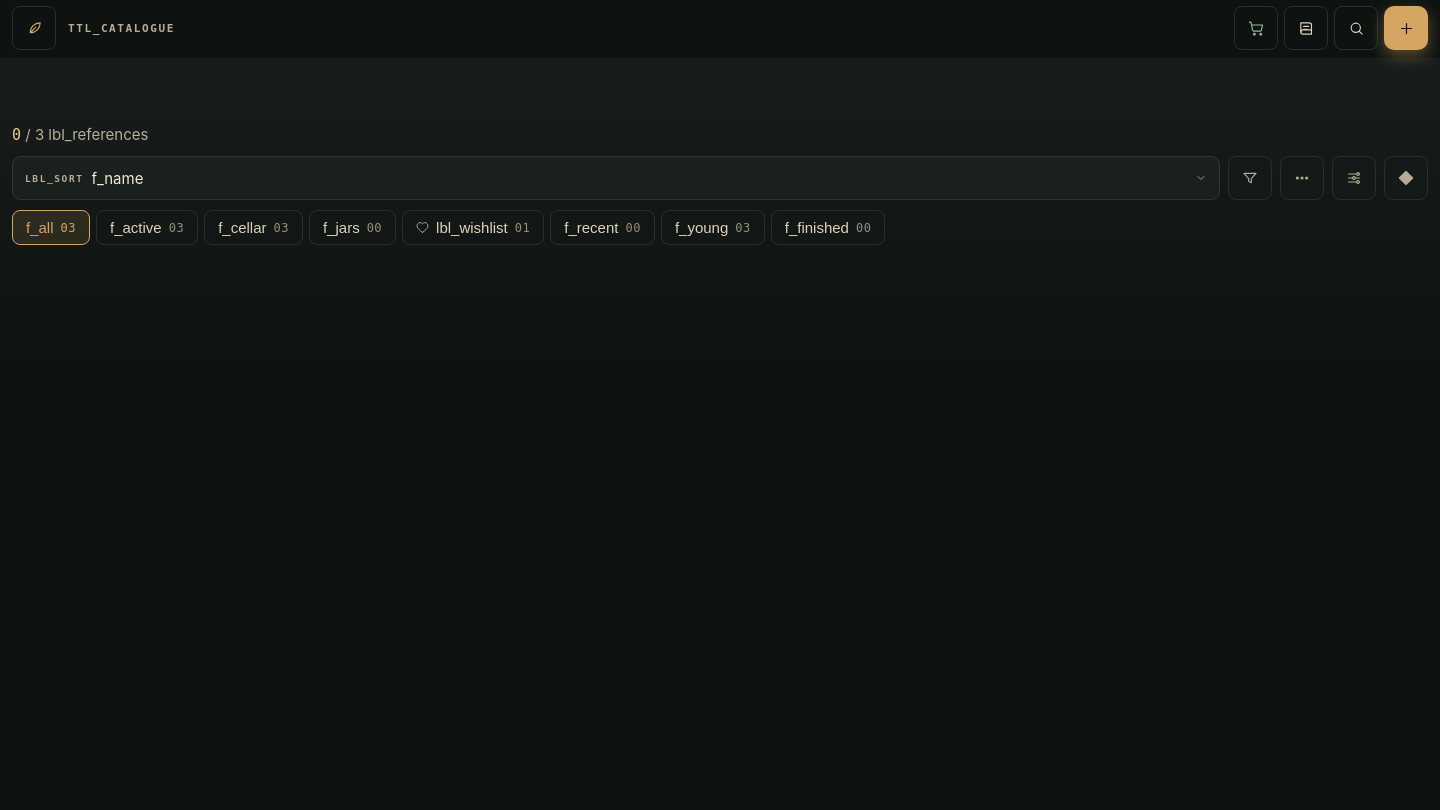
Scenario: CuratorInventoryListView — type / cut filter dropdowns › renders both dropdowns when the inventory has tobaccos
This screenshot has width=1440, height=810.
Click the button named "filters_more" at [1250, 178], box [1228,156,1272,200]
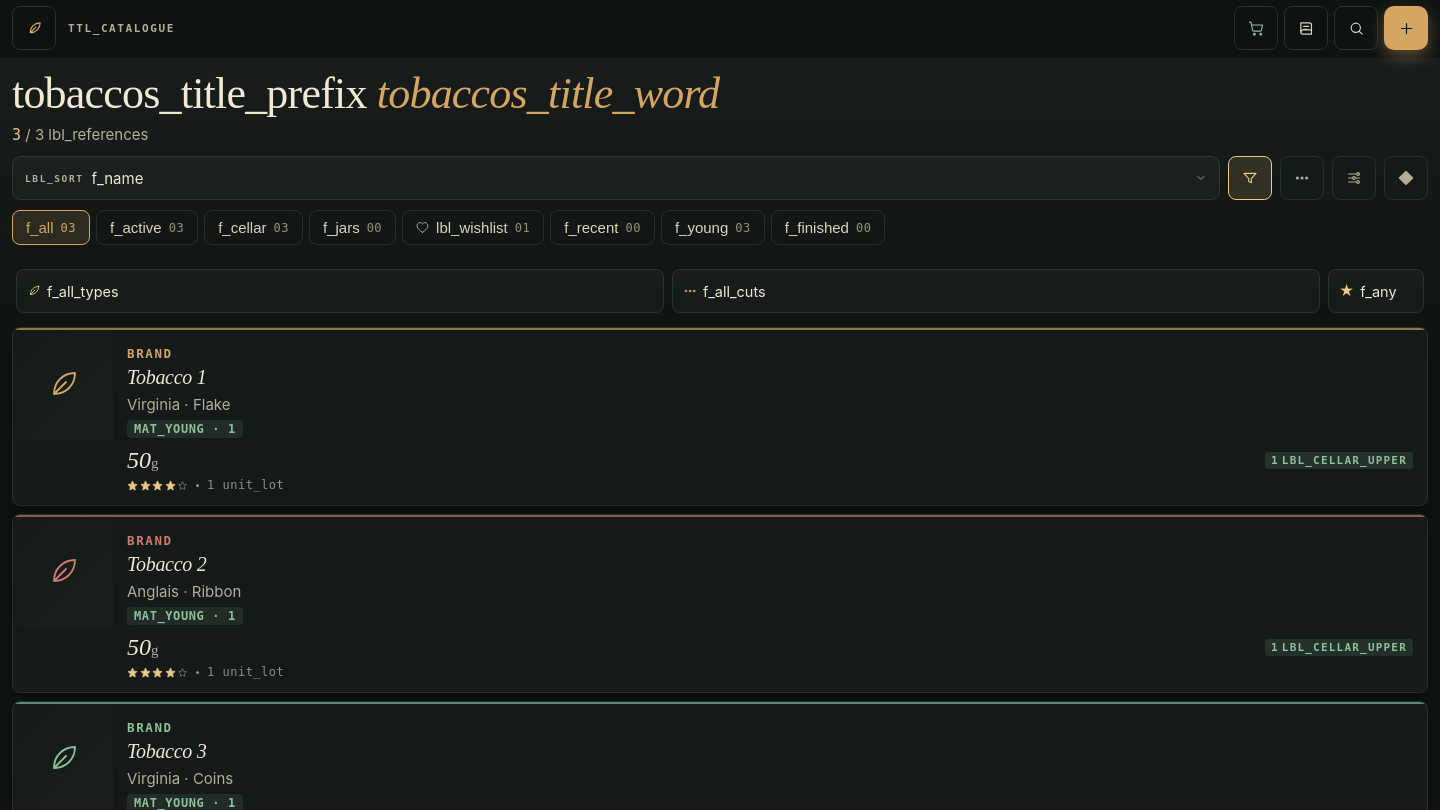
Expected: the dropdown named "aria_filter_by_type" is shown, [47,270,653,312]
Expected: the dropdown named "aria_filter_by_cut" is shown, [703,270,1309,312]
